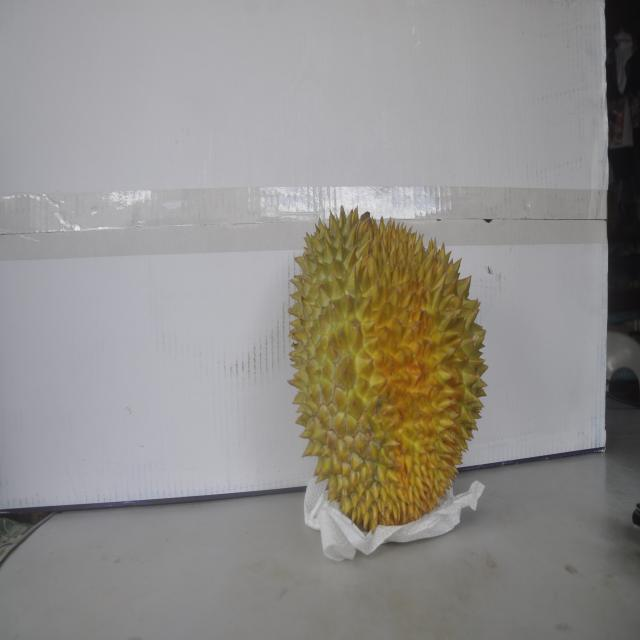mature: (290, 199, 480, 535)
